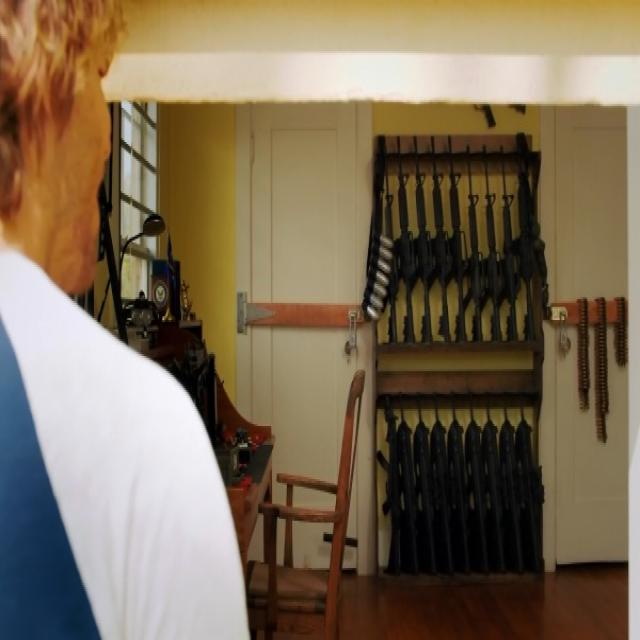rifle: (376, 397, 409, 580), (448, 131, 473, 348), (396, 127, 420, 353), (501, 143, 523, 345)
